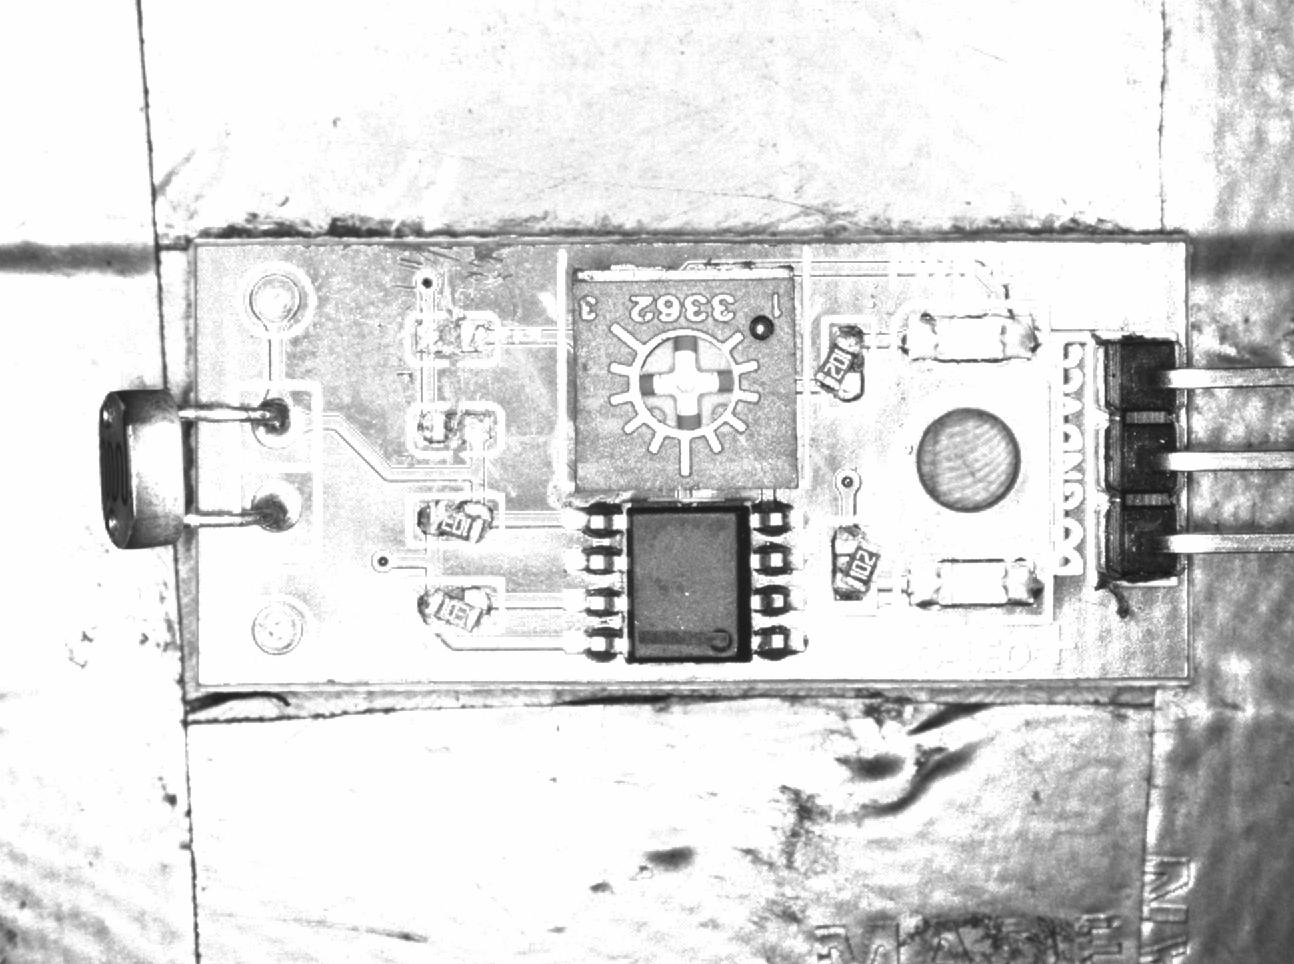lifted: (823, 520, 885, 610), (410, 495, 506, 547), (408, 580, 502, 633), (819, 314, 871, 409)
miss: (408, 403, 504, 457), (406, 314, 498, 365)
